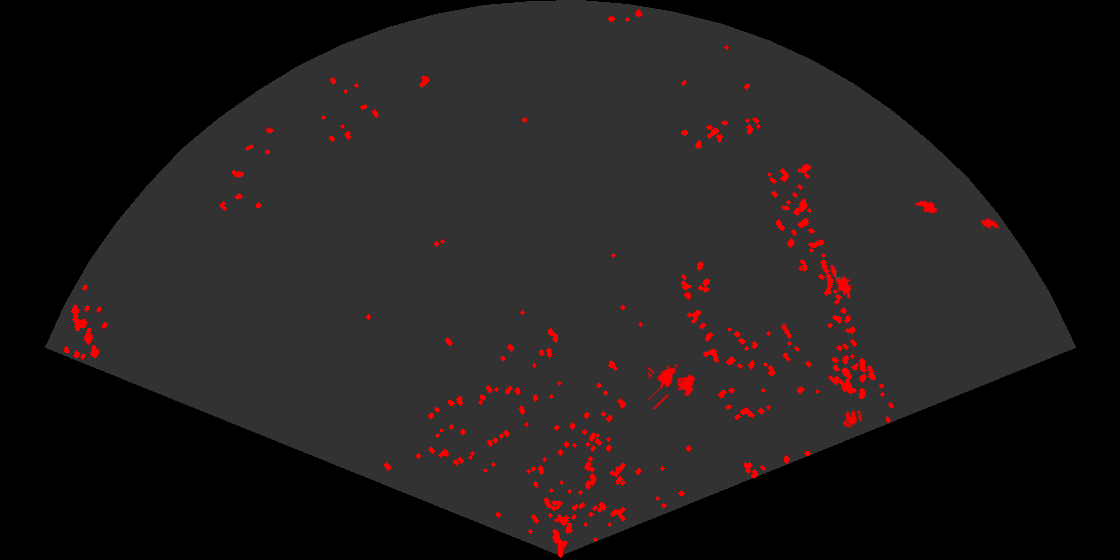AUV: (913, 199, 939, 216), (979, 214, 1001, 230)
ball: (844, 408, 864, 427)
cage: (648, 363, 697, 409)
frogman: (829, 261, 853, 298)
